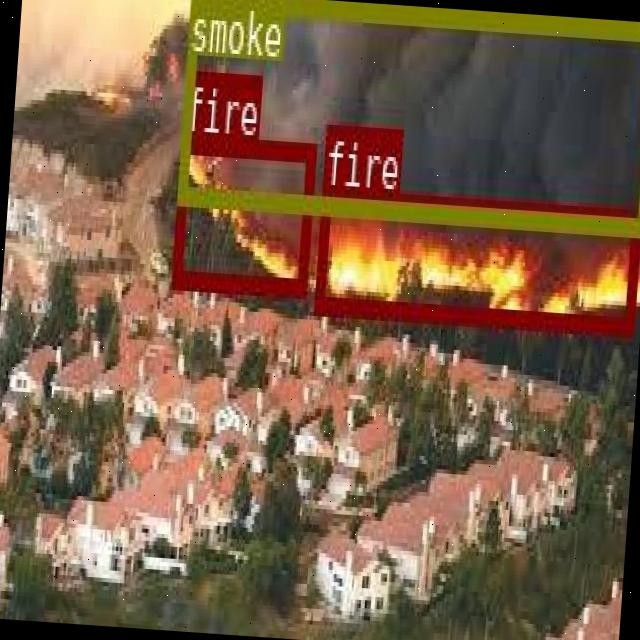fire: (313, 184, 640, 330), (170, 131, 314, 294)
smoke: (177, 0, 640, 230)
